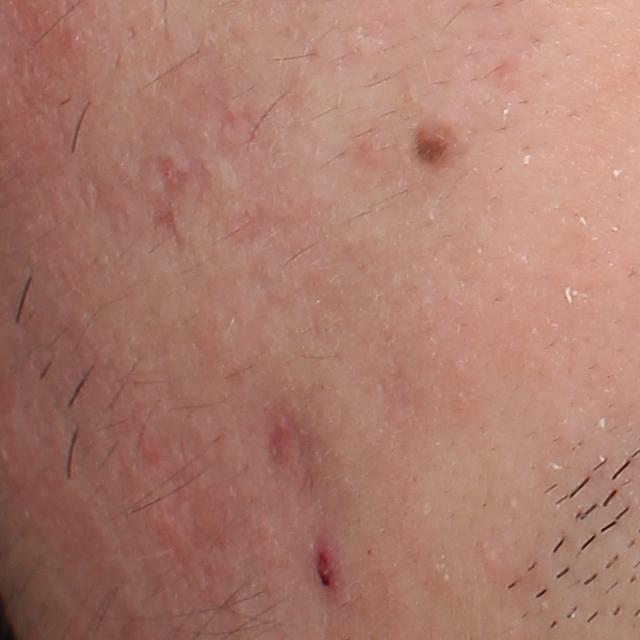atrophic_scar: (143, 153, 207, 255)
papule: (305, 535, 347, 608)
